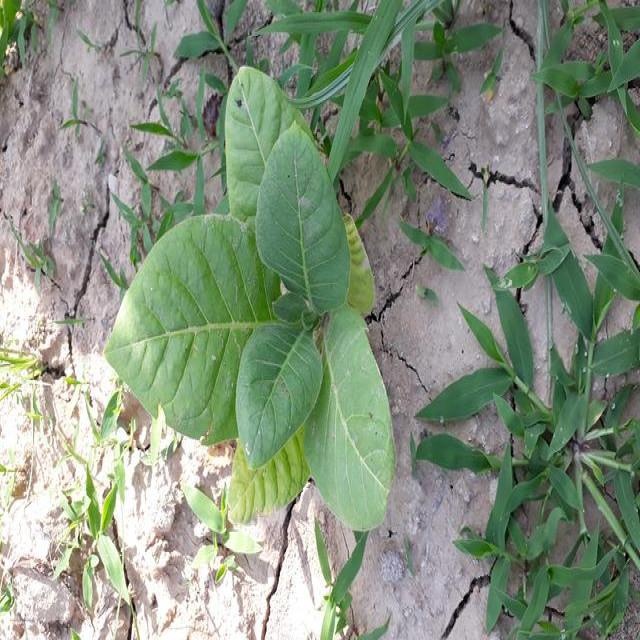crop: (102, 57, 394, 536)
